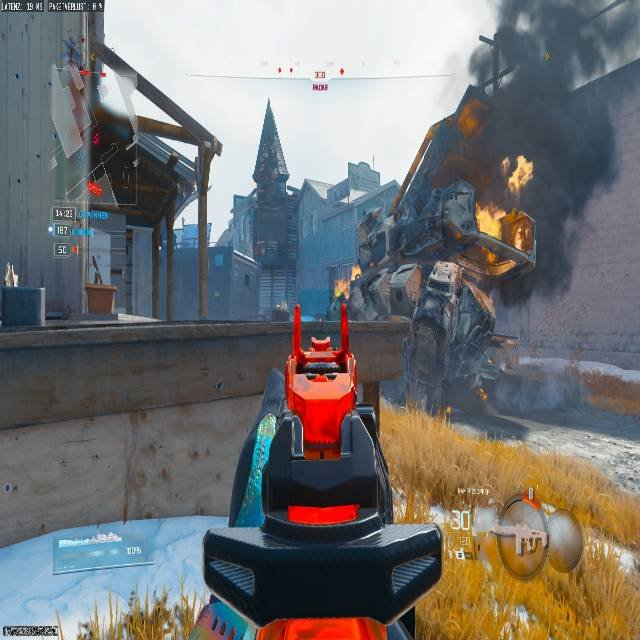player: (351, 172, 536, 429)
